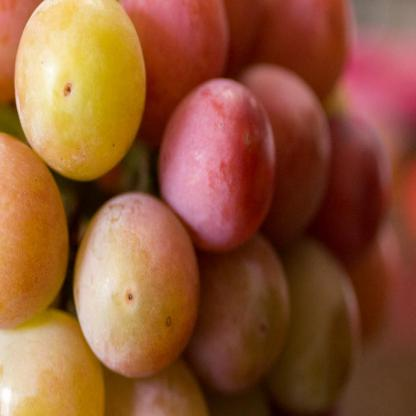Tomato: (146, 67, 275, 250)
